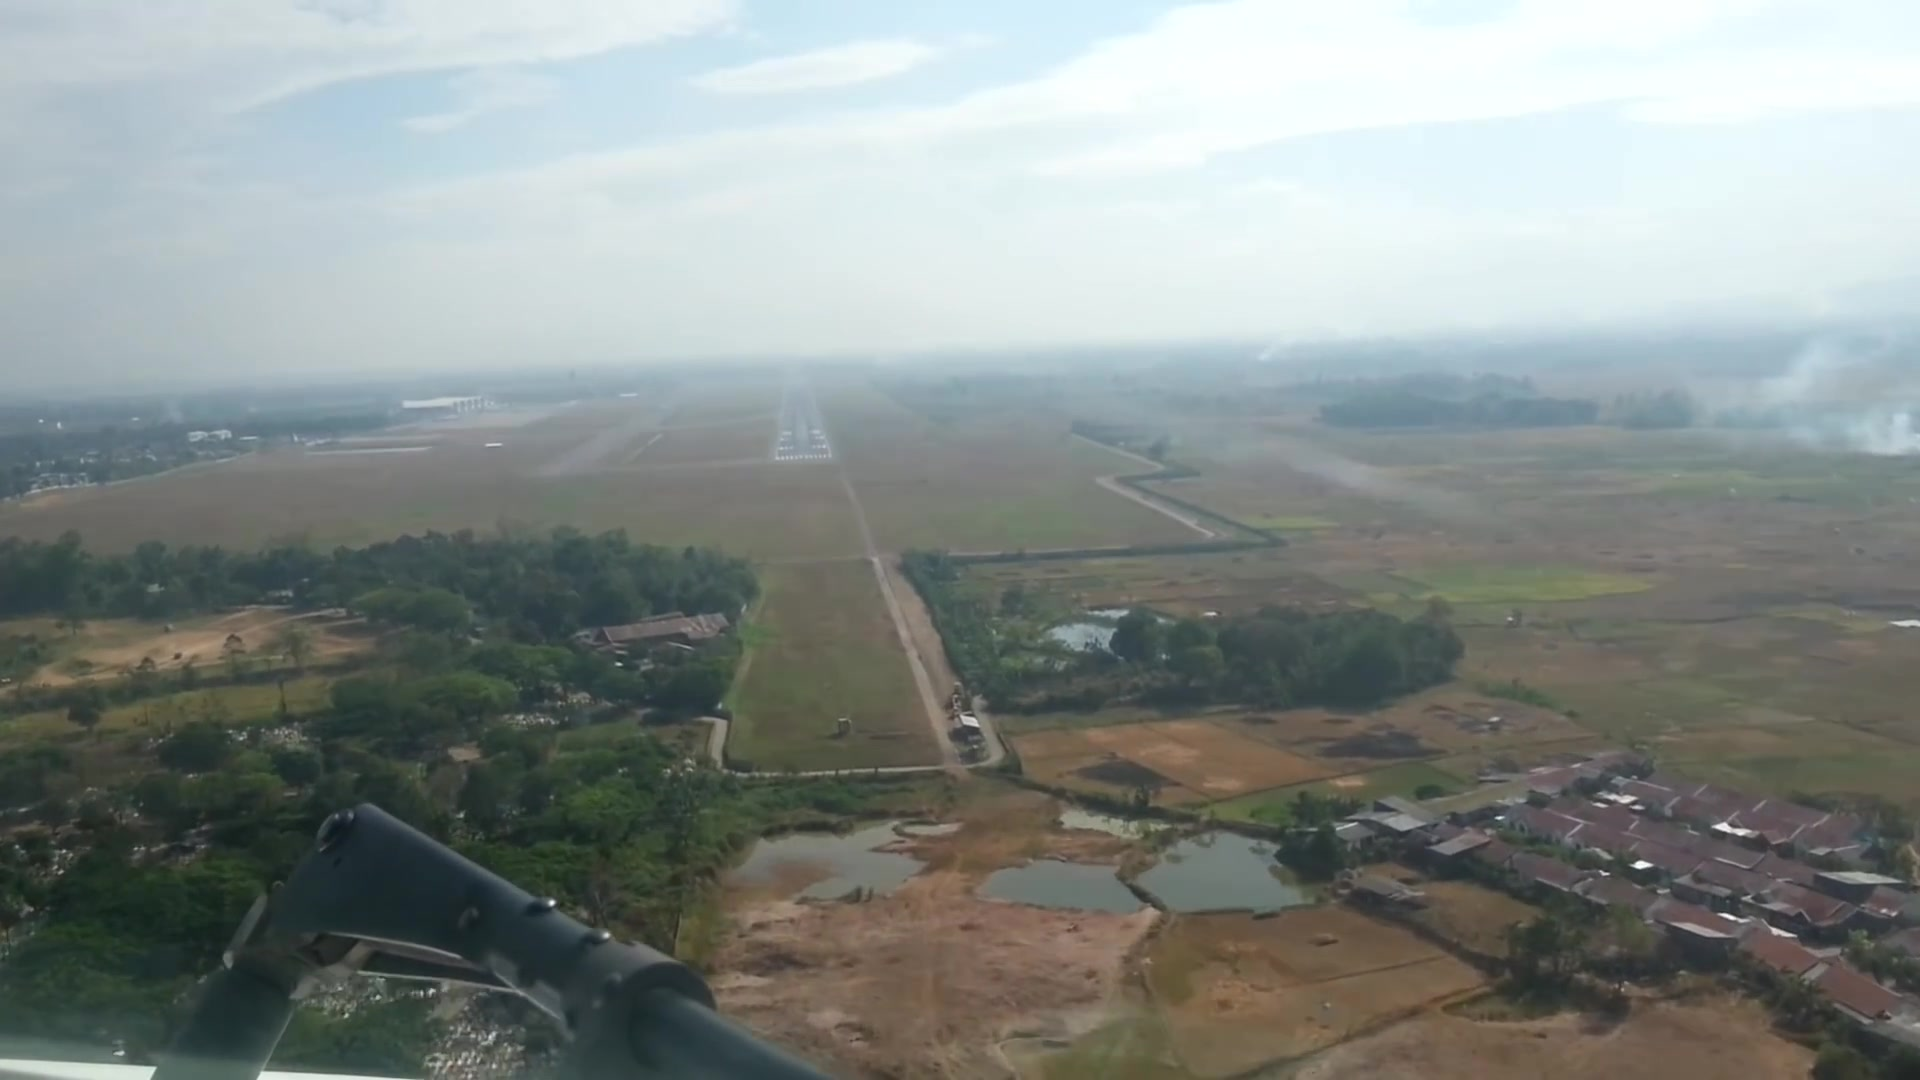entrance: (773, 452, 829, 463)
runway: (770, 367, 836, 469)
